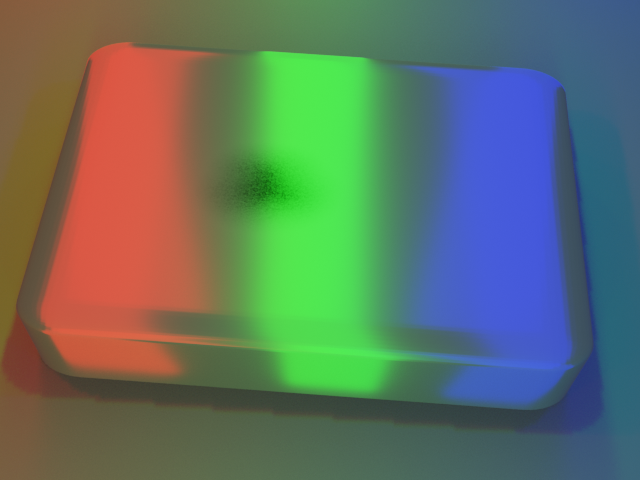stain: (159, 121, 371, 240)
